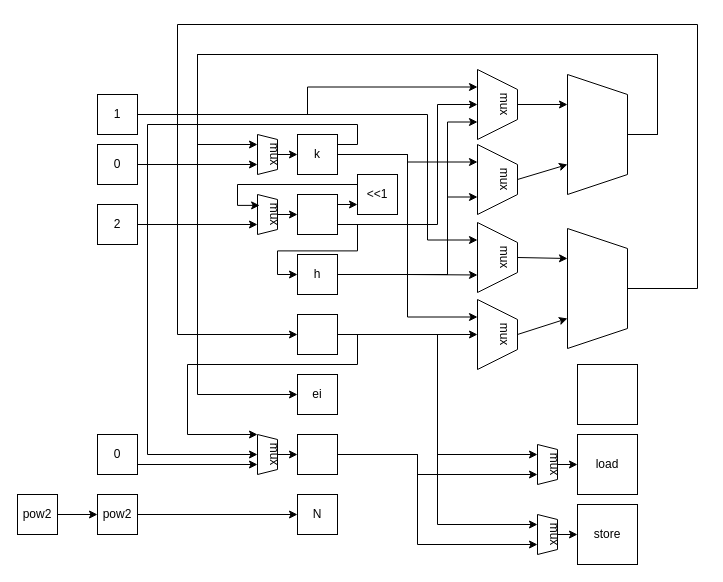
The diagram is 723 pixels wide and 582 high, and some of its shapes have lost their labels. The centre of each missing label's shape, as x and y in pixels:
"ad2" goes at point 317,454.
"ALU1" goes at point 597,134.
"ALU2" goes at point 597,288.
"do_gen" goes at point 607,394.
"j+1" goes at point 317,334.
"sp" goes at point 317,214.
